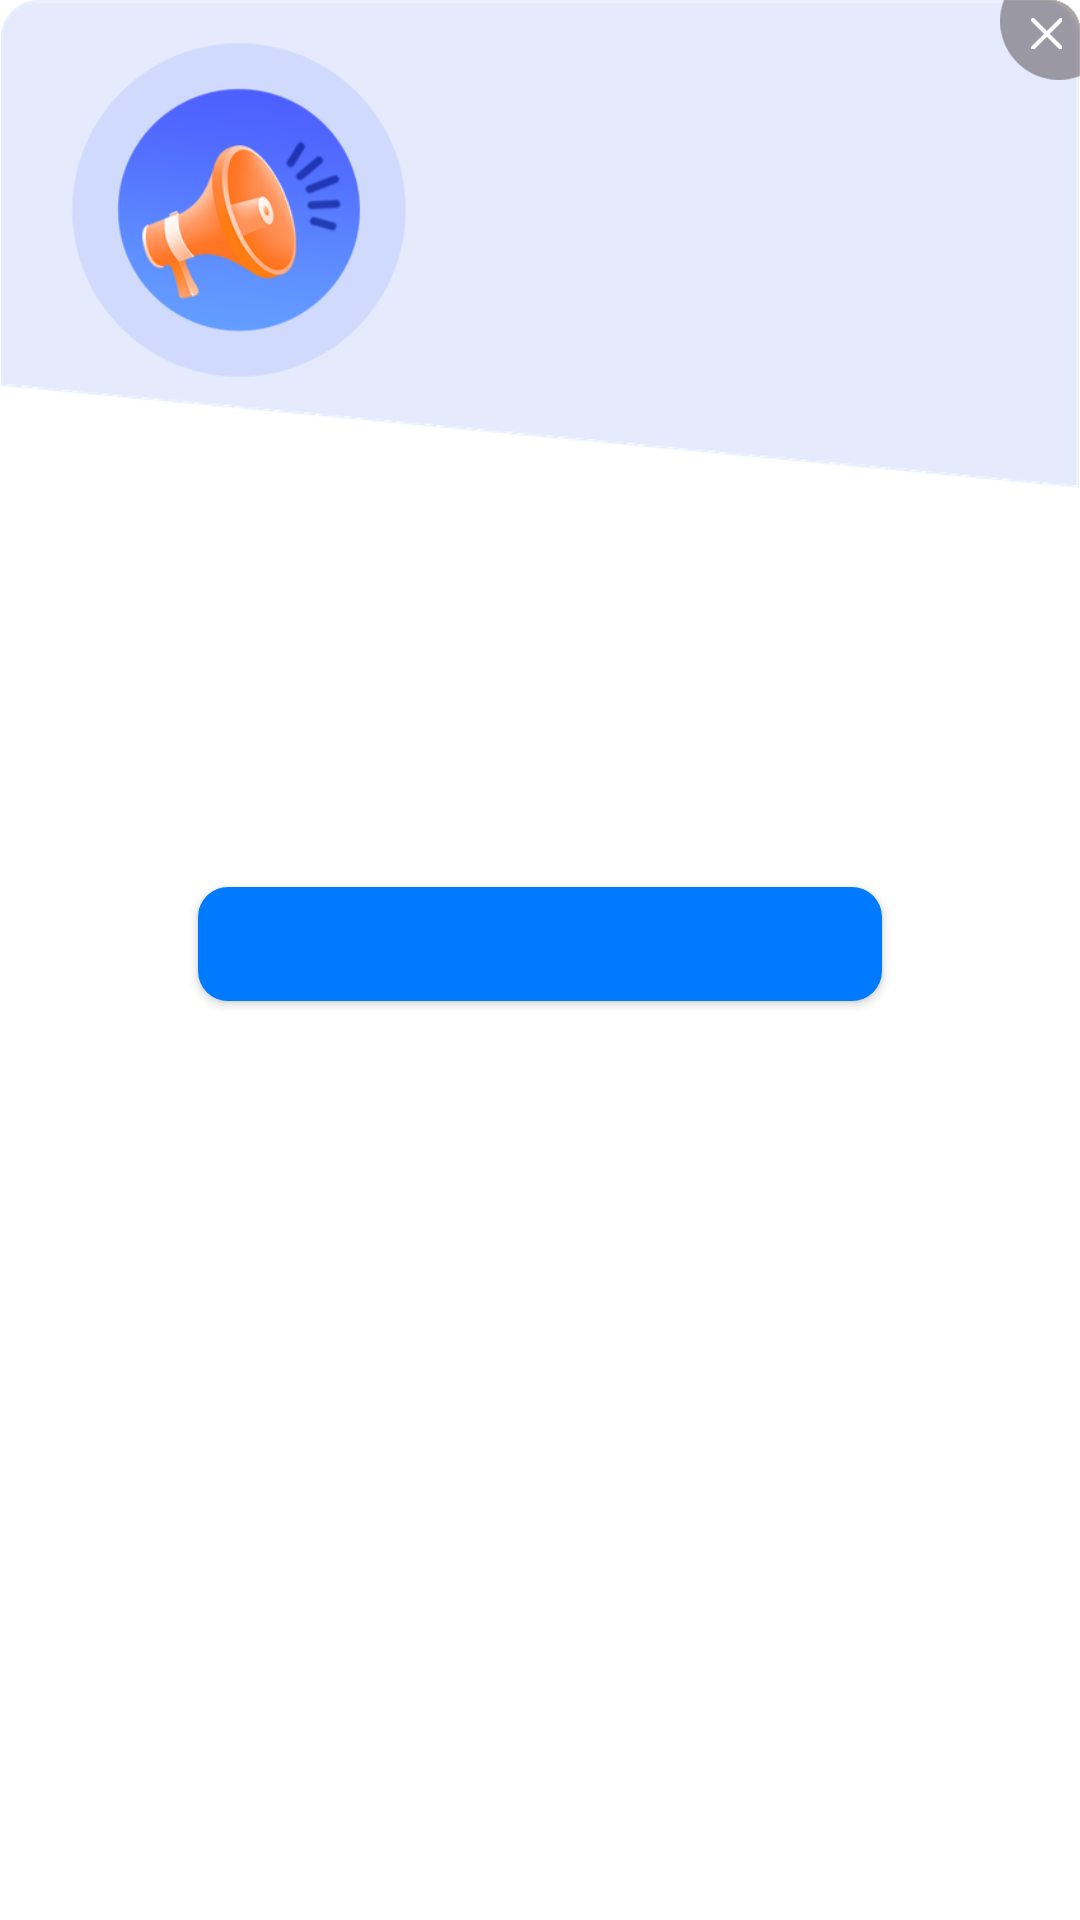

Where icons sit on this 1080x1920 app screen, as (x1, y1, x2, y2):
bulletin close: (1031, 18, 1062, 49)
